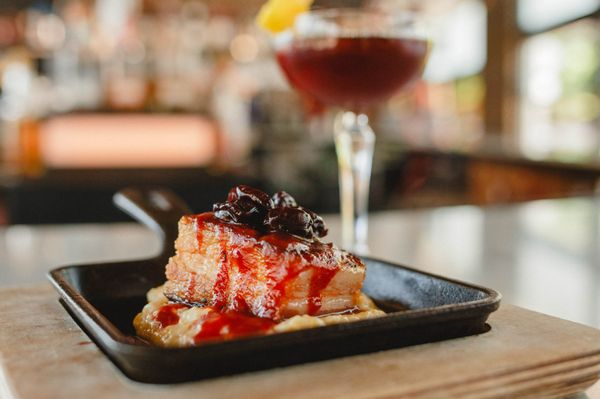curry: (7, 181, 600, 393)
sandwich: (259, 2, 487, 255)
sushi: (132, 185, 381, 349)
